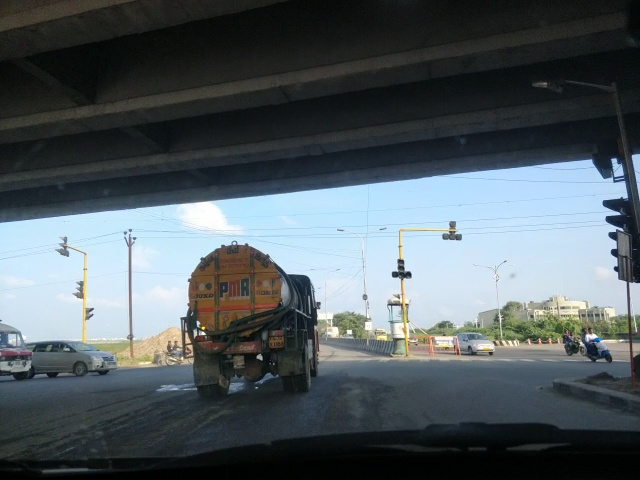car: (32, 340, 121, 378), (458, 333, 497, 357)
motorbike: (583, 340, 613, 364), (165, 346, 189, 365), (563, 340, 583, 358)
person: (582, 327, 597, 353), (167, 340, 181, 355), (563, 330, 574, 347)
truck: (181, 246, 319, 401), (1, 321, 31, 381)
